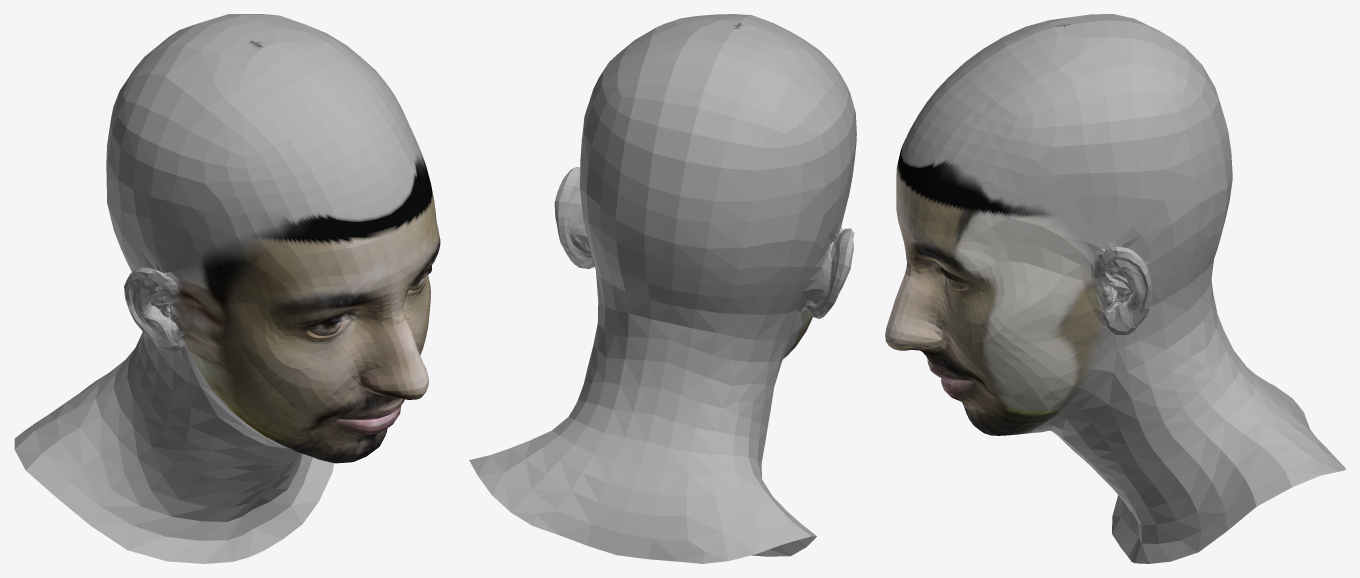
Rendered from ezgif-frame-064.obj.
3 renders of one model, left to right at view 1: azimuth 30°, elevation 25°; view 2: azimuth 150°, elevation 25°; view 3: azimuth 270°, elevation 25°, orthographic. The views are drawn at different scales.
Size of the model in its own units: 0.2043 by 0.3272 by 0.2661.
1 material, 1 textured.
